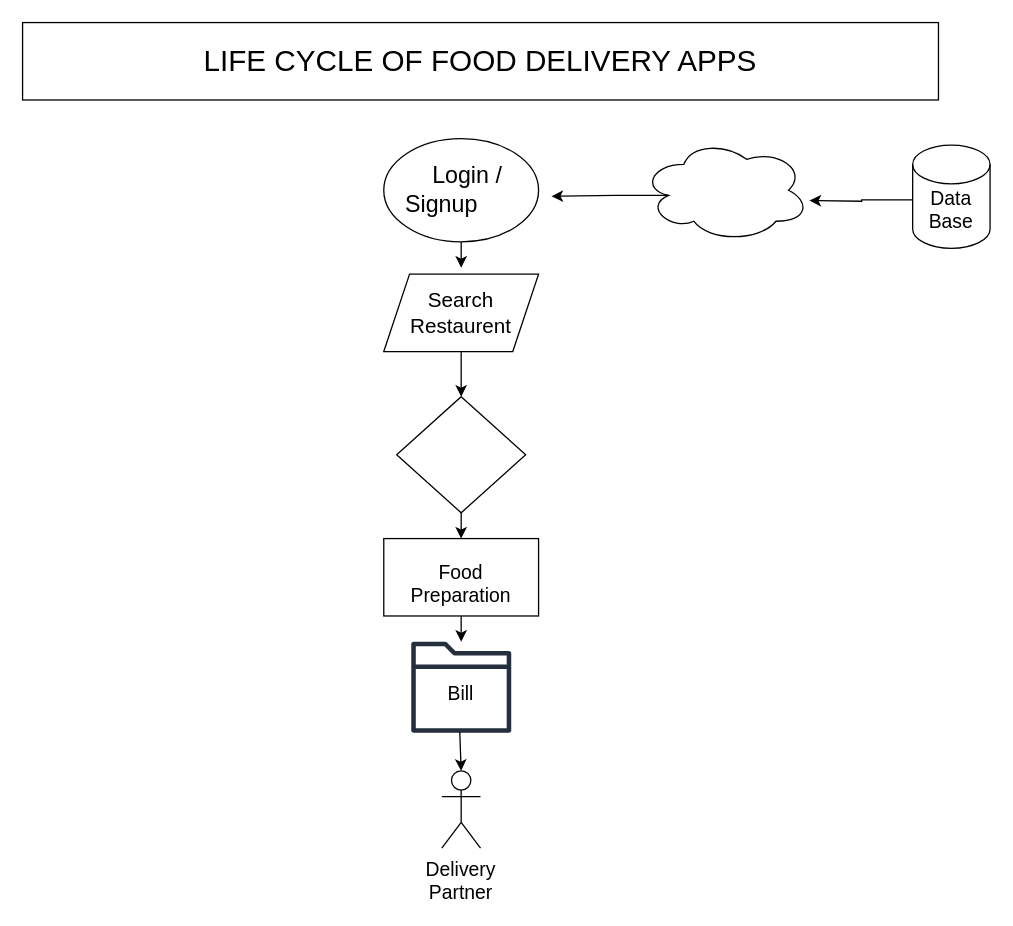
The diagram is 1013 pixels wide and 926 high, and some of its shapes have lost their labels. Here are the shapes that lost their labels. From the top down, the centre of each, then its label:
At point 724,189: "Internet access".
At point 460,454: "Choose Menu".
